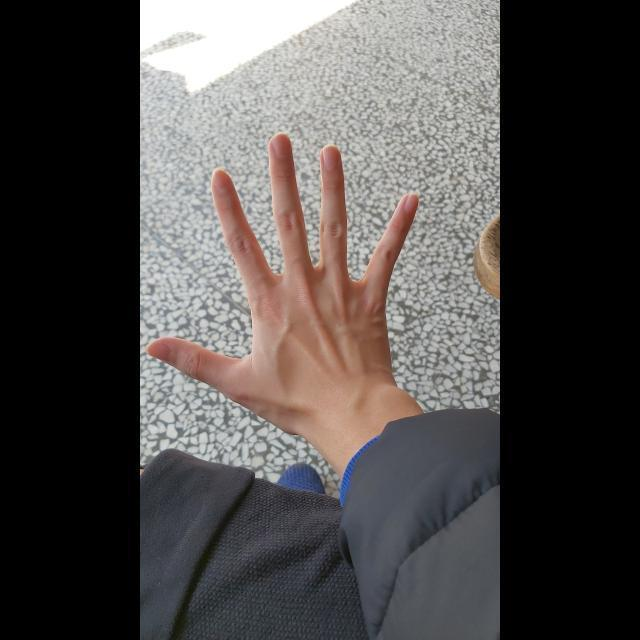bare_hand: (147, 133, 421, 418)
